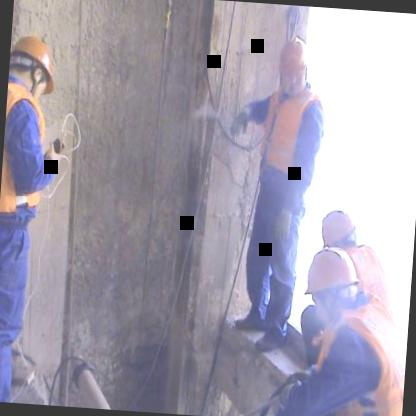helmet: (303, 242, 365, 334), (6, 30, 62, 109), (314, 203, 366, 262), (272, 32, 313, 104)
